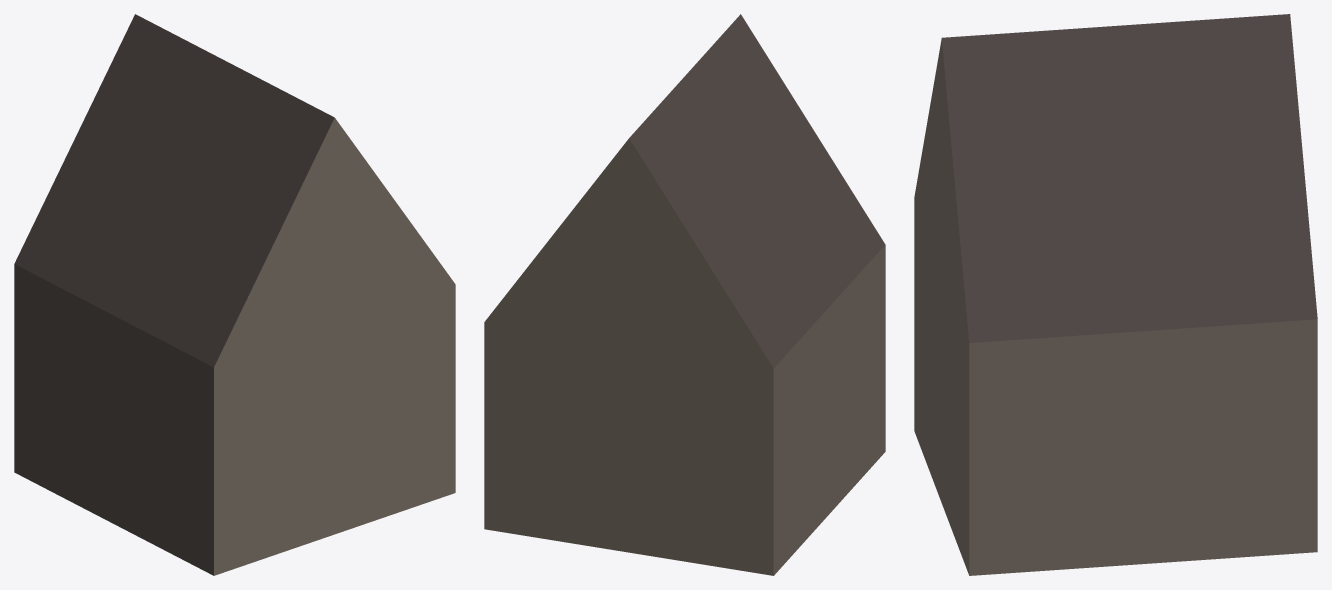
The picture shows the model from 3 angles, left to right: view 1: azimuth 30°, elevation 25°; view 2: azimuth 150°, elevation 25°; view 3: azimuth 270°, elevation 25°; orthographic projection. The views are drawn at different scales.
Visible parts, largest first — view 1: HP-w428196091; view 2: HP-w428196091; view 3: HP-w428196091.
Boxes of the visible parts, left/top/right/bottom form: HP-w428196091: left=14, top=14, right=455, bottom=575; HP-w428196091: left=484, top=14, right=885, bottom=575; HP-w428196091: left=914, top=14, right=1317, bottom=575.
Bounding box in the file's own units: 4.67 × 6 × 4.71.
